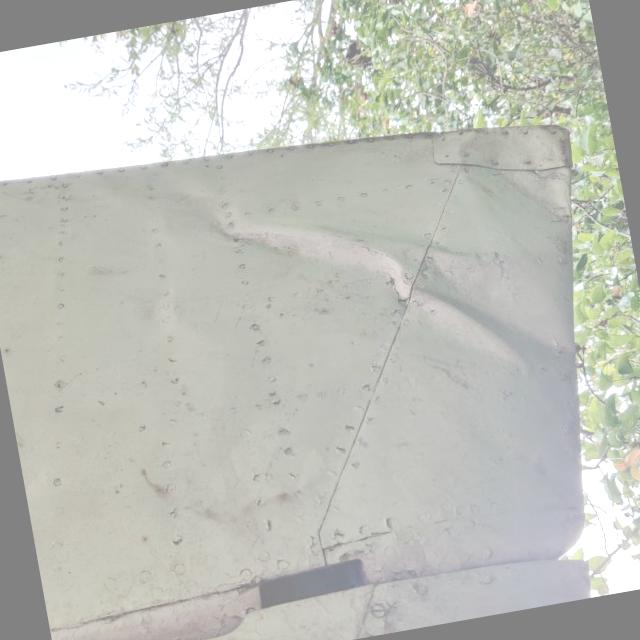crack: (381, 265, 410, 307)
dent: (253, 162, 583, 440), (84, 130, 262, 280)
